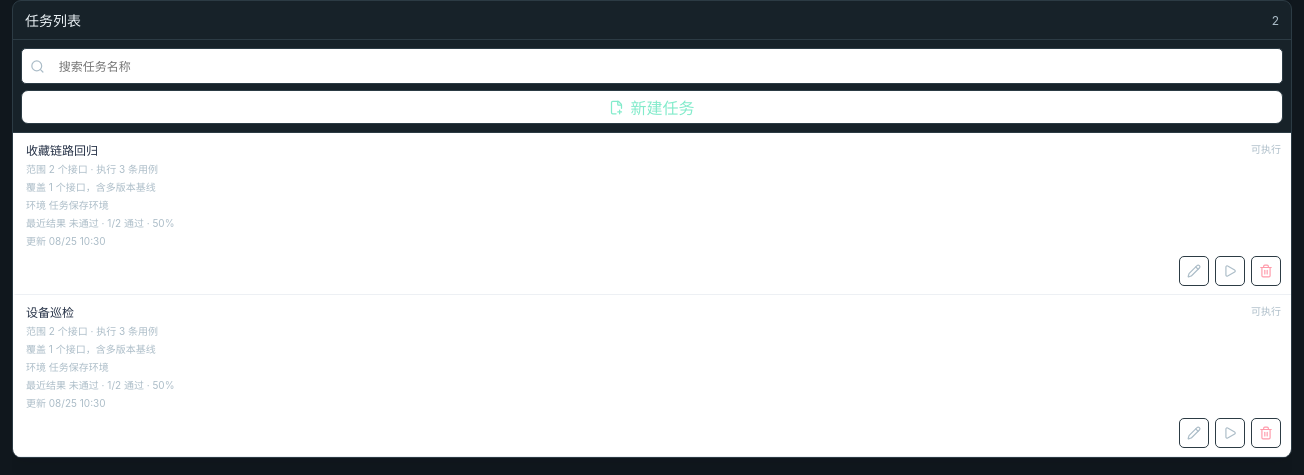
Scenario: TaskListPanel › filters saved tasks by name
Type "设备" into the field with test id "task-list-search" showing "搜索任务名称" at x=662, y=66, box top-left (51, 49), bottom-right (1274, 83)
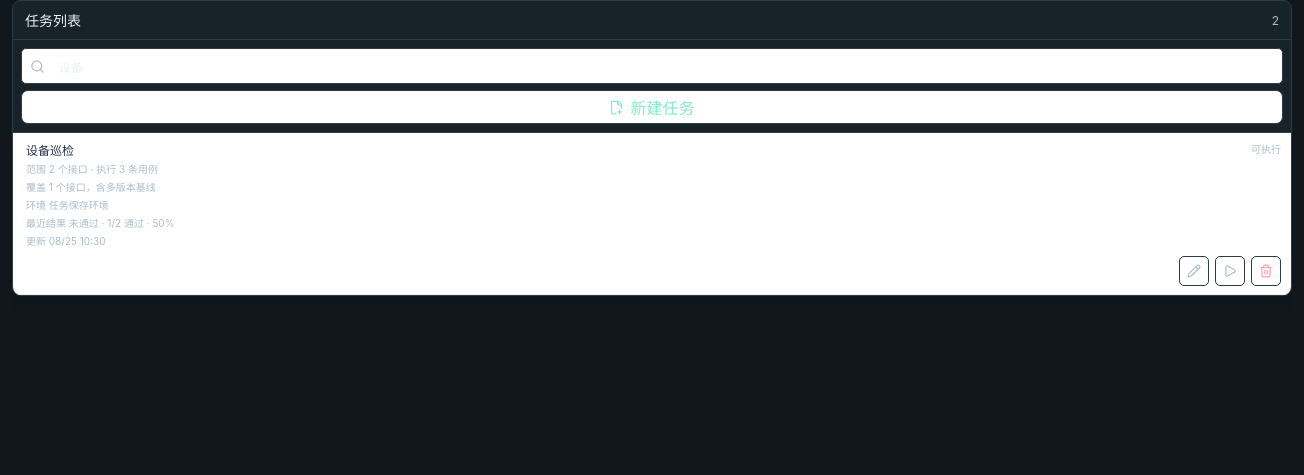
Expected: the text "设备巡检" is shown, top-left (26, 143), bottom-right (74, 158)
Expected: the text "收藏链路回归" is gone
